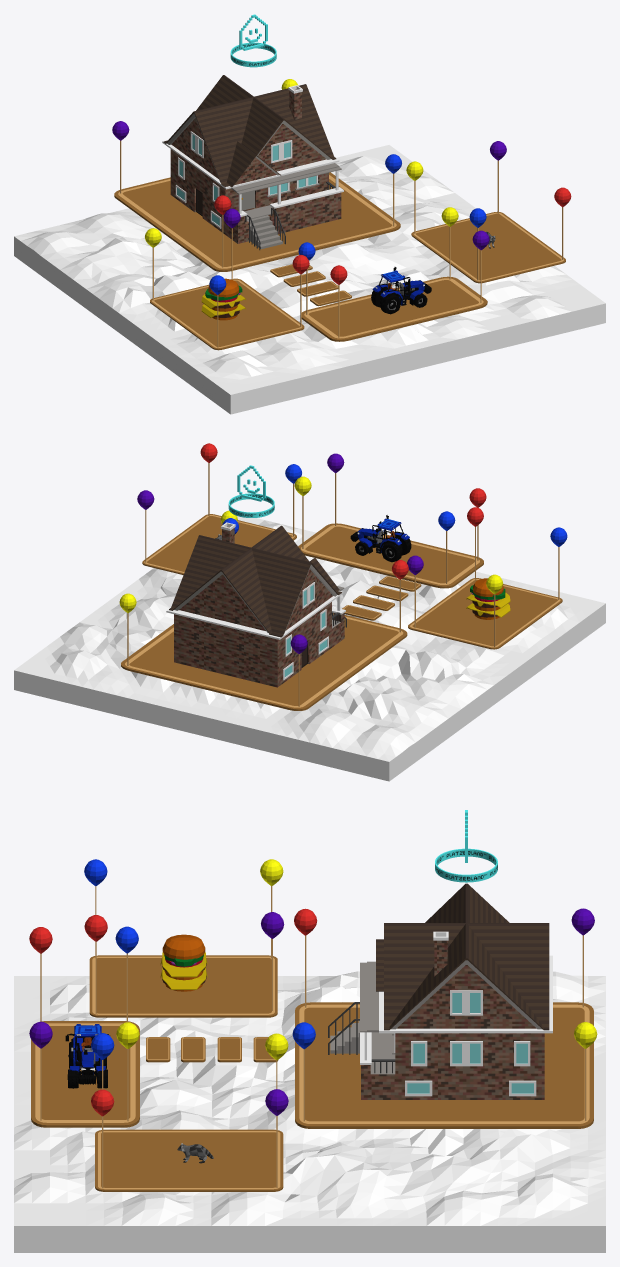
The picture shows the model from 3 angles, top to bottom: view 1: azimuth 30°, elevation 25°; view 2: azimuth 150°, elevation 25°; view 3: azimuth 270°, elevation 25°; orthographic projection. The views are drawn at different scales.
Visible parts, largest first — view 1: Cube.013, Cube.117, VEHICLES_TRACTOR, OBJRANDOM_HAMBURGER, TYPE_PREMIUM; view 2: Cube.013, Cube.117, VEHICLES_TRACTOR, OBJRANDOM_HAMBURGER, TYPE_PREMIUM; view 3: Cube.013, Cube.117, OBJRANDOM_HAMBURGER, VEHICLES_TRACTOR, TYPE_PREMIUM.
Boxes of the visible parts, left/top/right/bottom form: Cube.013: left=14, top=79, right=605, bottom=414; Cube.117: left=162, top=75, right=343, bottom=250; VEHICLES_TRACTOR: left=371, top=267, right=431, bottom=314; OBJRANDOM_HAMBURGER: left=201, top=278, right=245, bottom=320; TYPE_PREMIUM: left=230, top=14, right=276, bottom=67; Cube.013: left=14, top=443, right=605, bottom=781; Cube.117: left=166, top=522, right=346, bottom=687; VEHICLES_TRACTOR: left=350, top=515, right=411, bottom=562; OBJRANDOM_HAMBURGER: left=466, top=578, right=510, bottom=619; TYPE_PREMIUM: left=228, top=465, right=274, bottom=517; Cube.013: left=14, top=859, right=605, bottom=1252; Cube.117: left=328, top=883, right=552, bottom=1099; OBJRANDOM_HAMBURGER: left=160, top=934, right=207, bottom=991; VEHICLES_TRACTOR: left=65, top=1024, right=108, bottom=1088; TYPE_PREMIUM: left=435, top=810, right=497, bottom=882.
Bounding box in the file's own units: 4000 × 2443 × 4000.
40 materials, 3 textured.
